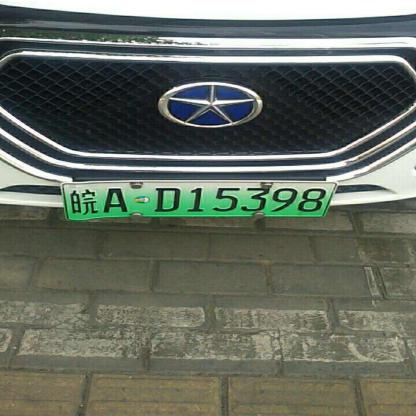lp: (62, 183, 336, 219)
